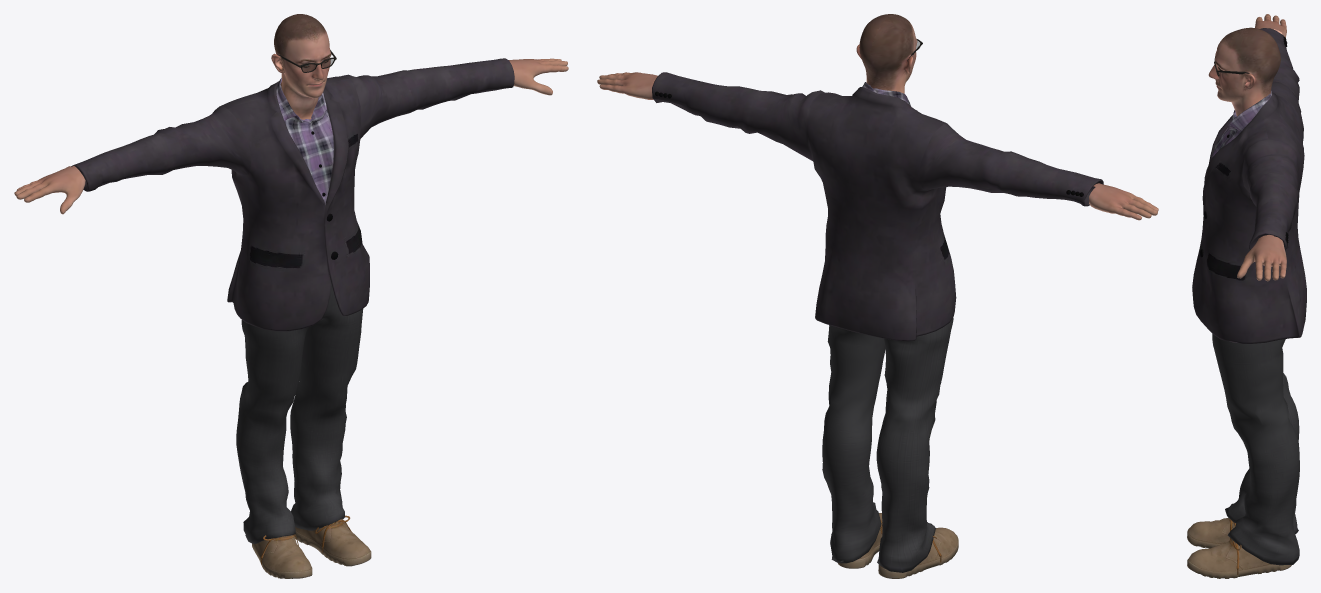
File: person-sitting-3.glb
3 views of the same model, side by side, from view 1: azimuth 30°, elevation 25°; view 2: azimuth 150°, elevation 25°; view 3: azimuth 270°, elevation 25° (orthographic). The views are drawn at different scales.
Parts seen in each view (by area): view 1: Tops_Topmat_0, Bottoms_Bottommat_0, Body_Bodymat_0, Shoes_Shoesmat_0; view 2: Tops_Topmat_0, Bottoms_Bottommat_0, Body_Bodymat_0, Shoes_Shoesmat_0; view 3: Tops_Topmat_0, Bottoms_Bottommat_0, Body_Bodymat_0, Shoes_Shoesmat_0.
Boxes of the visible parts, <box> form: Tops_Topmat_0: <box>71,58,514,331</box>; Bottoms_Bottommat_0: <box>236,276,363,543</box>; Body_Bodymat_0: <box>14,14,568,214</box>; Shoes_Shoesmat_0: <box>252,515,371,578</box>; Tops_Topmat_0: <box>652,72,1103,341</box>; Bottoms_Bottommat_0: <box>822,317,953,572</box>; Body_Bodymat_0: <box>597,14,1158,220</box>; Shoes_Shoesmat_0: <box>838,513,958,578</box>; Tops_Topmat_0: <box>1192,28,1306,343</box>; Bottoms_Bottommat_0: <box>1212,334,1299,565</box>; Body_Bodymat_0: <box>1208,14,1286,281</box>; Shoes_Shoesmat_0: <box>1187,517,1291,578</box>.
Size of the model in its own units: 1.4 by 1.3 by 0.2681.
5 materials, 5 textured.
